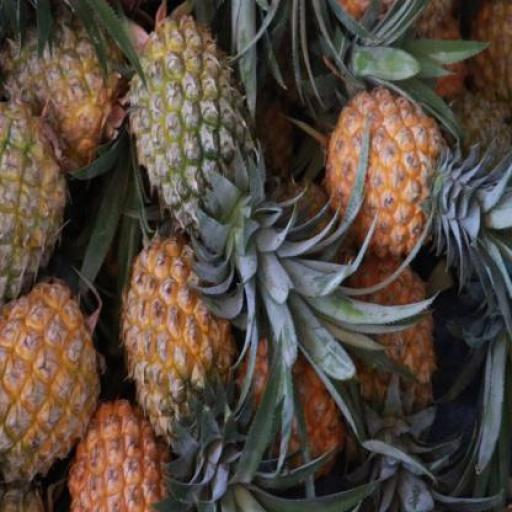------------------------------: (127, 6, 258, 228), (6, 1, 127, 159), (0, 98, 70, 297)
Pineapple - v8 v1: (120, 239, 236, 437), (325, 88, 445, 273), (0, 276, 98, 464), (66, 391, 178, 512)
